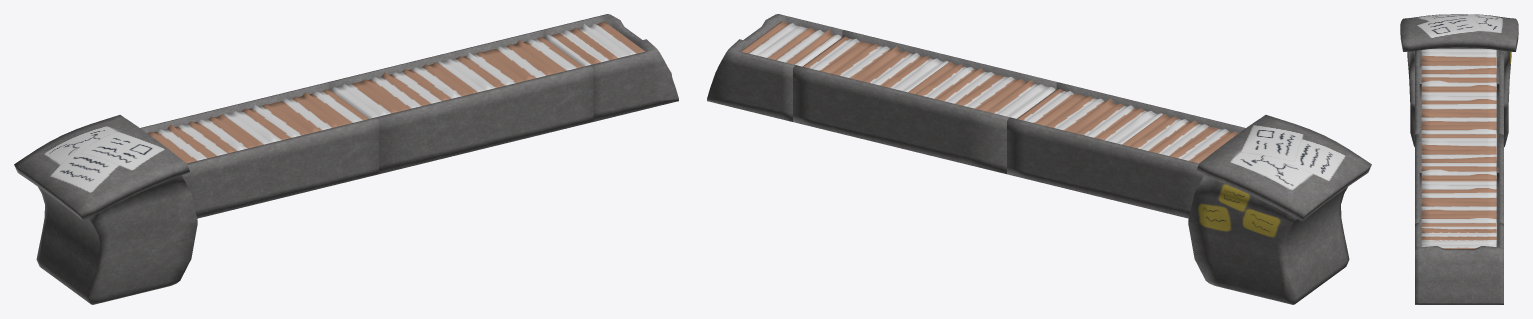
File: FileCabinet_Open_3.glb
3 renders of one model, left to right at view 1: azimuth 30°, elevation 25°; view 2: azimuth 150°, elevation 25°; view 3: azimuth 270°, elevation 25°, orthographic. The views are drawn at different scales.
Parts seen in each view (by area): view 1: FileCabinetBase, TopDrawerExtendedPapersMiddle, TopDrawerExtendedPapersMiddle.001, TopDrawerPapers; view 2: FileCabinetBase, TopDrawerExtendedPapersMiddle, TopDrawerExtendedPapersMiddle.001, TopDrawerPapers; view 3: TopDrawerExtendedPapersMiddle.001, TopDrawerExtendedPapersMiddle, TopDrawerPapers, FileCabinetBase.
Boxes of the visible parts, left/top/right/bottom form: FileCabinetBase: left=14, top=115, right=197, bottom=304; TopDrawerExtendedPapersMiddle: left=327, top=30, right=593, bottom=174; TopDrawerExtendedPapersMiddle.001: left=140, top=82, right=378, bottom=218; TopDrawerPapers: left=541, top=14, right=678, bottom=121; FileCabinetBase: left=1188, top=115, right=1371, bottom=304; TopDrawerExtendedPapersMiddle: left=792, top=30, right=1058, bottom=174; TopDrawerExtendedPapersMiddle.001: left=1007, top=82, right=1245, bottom=218; TopDrawerPapers: left=707, top=14, right=844, bottom=121; TopDrawerExtendedPapersMiddle.001: left=1415, top=49, right=1503, bottom=172; TopDrawerExtendedPapersMiddle: left=1415, top=133, right=1503, bottom=247; TopDrawerPapers: left=1415, top=222, right=1503, bottom=304; FileCabinetBase: left=1400, top=14, right=1518, bottom=146.
Bounding box in the file's own units: 5.44 × 1.13 × 1.08.
4 materials, 4 textured.
